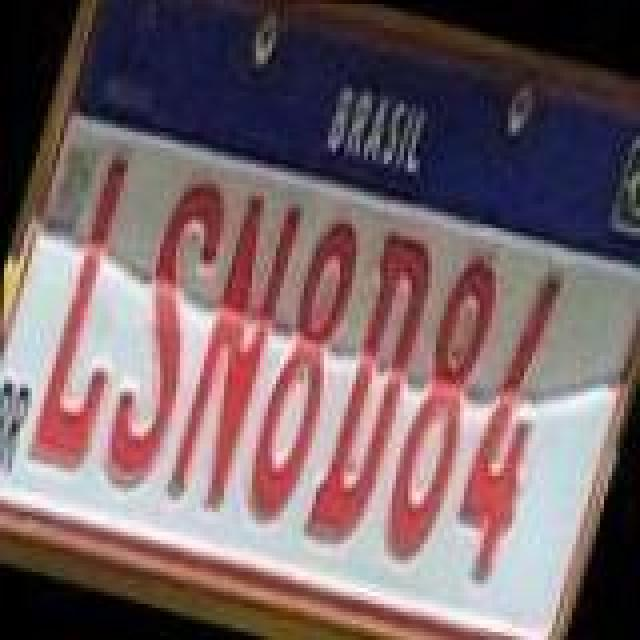4: (434, 258, 582, 586)
8: (364, 236, 512, 572), (230, 204, 374, 532)
D: (298, 216, 450, 556)
L: (20, 144, 172, 480)
N: (154, 182, 306, 522)
S: (86, 168, 242, 508)
